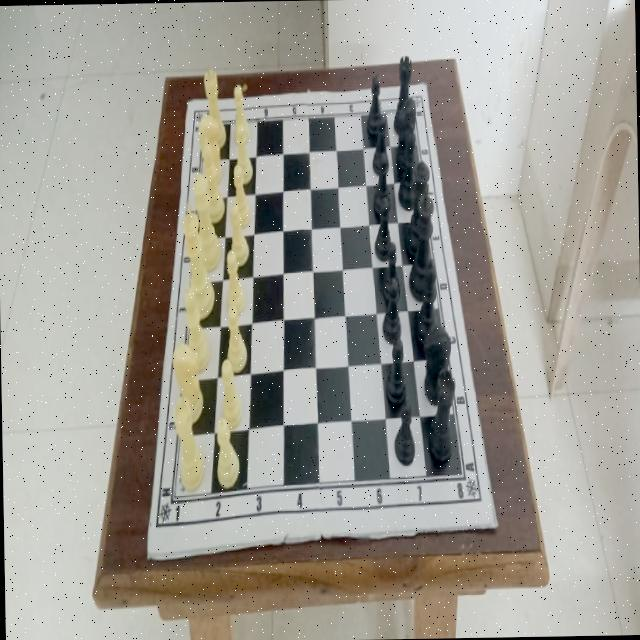corners: (138, 536, 156, 570), (487, 510, 502, 540), (183, 85, 195, 114), (418, 68, 429, 94)
